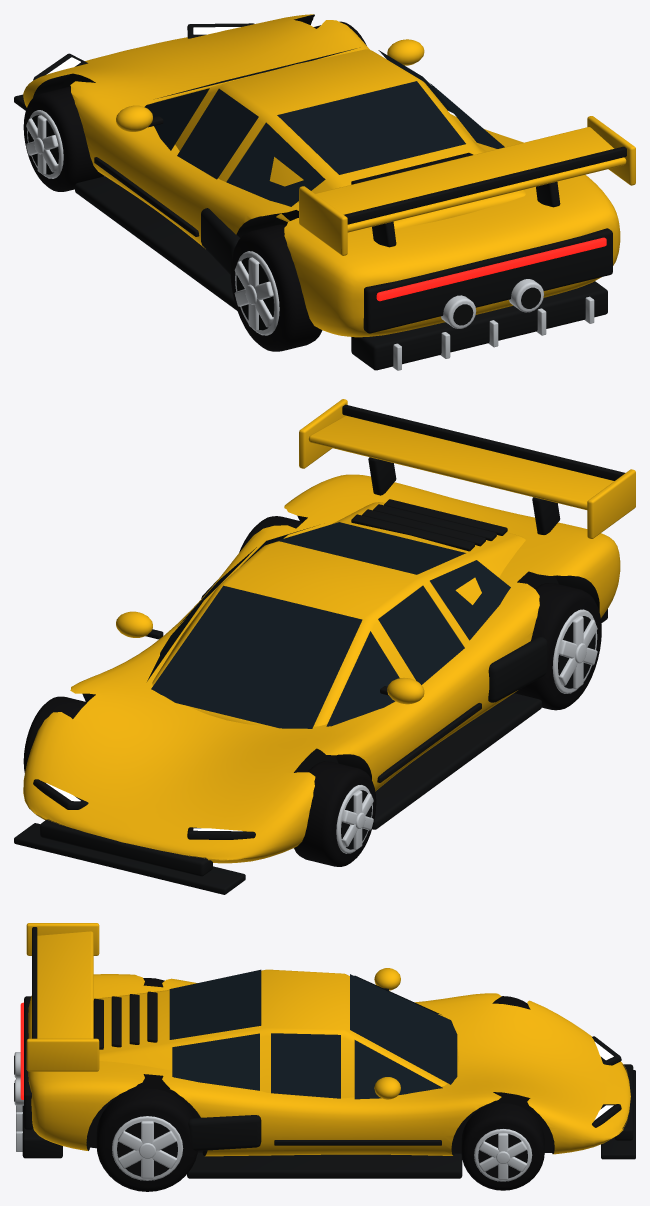
The model's file is supercar.glb.
The picture shows the model from 3 angles, top to bottom: view 1: azimuth 30°, elevation 25°; view 2: azimuth 150°, elevation 25°; view 3: azimuth 270°, elevation 25°; orthographic projection. The views are drawn at different scales.
Visible parts, largest first — view 1: Paint parts, Charcoal parts, Glass parts, Wheel_RL, Wheel_FL, Silver parts, Tail lamp parts; view 2: Paint parts, Glass parts, Charcoal parts, Wheel_RL, Wheel_FL, Wheel_FR; view 3: Paint parts, Glass parts, Charcoal parts, Wheel_RR, Wheel_FR, Silver parts.
Part boxes in pixels (<box>): Paint parts: <box>23,14,635,337</box>; Charcoal parts: <box>14,23,626,370</box>; Glass parts: <box>144,48,504,206</box>; Wheel_RL: <box>230,224,322,351</box>; Wheel_FL: <box>23,86,104,191</box>; Silver parts: <box>392,279,594,370</box>; Tail lamp parts: <box>376,237,606,301</box>; Paint parts: <box>23,399,635,863</box>; Glass parts: <box>147,522,510,728</box>; Charcoal parts: <box>14,404,624,894</box>; Wheel_RL: <box>514,583,601,710</box>; Wheel_FL: <box>294,761,376,866</box>; Wheel_FR: <box>23,696,86,772</box>; Paint parts: <box>26,923,630,1156</box>; Glass parts: <box>169,969,457,1099</box>; Charcoal parts: <box>14,927,635,1178</box>; Wheel_RR: <box>96,1088,197,1191</box>; Wheel_FR: <box>461,1102,544,1190</box>; Silver parts: <box>14,1052,23,1151</box>.
Bounding box in the file's own units: 2.35 × 1.23 × 4.64.
